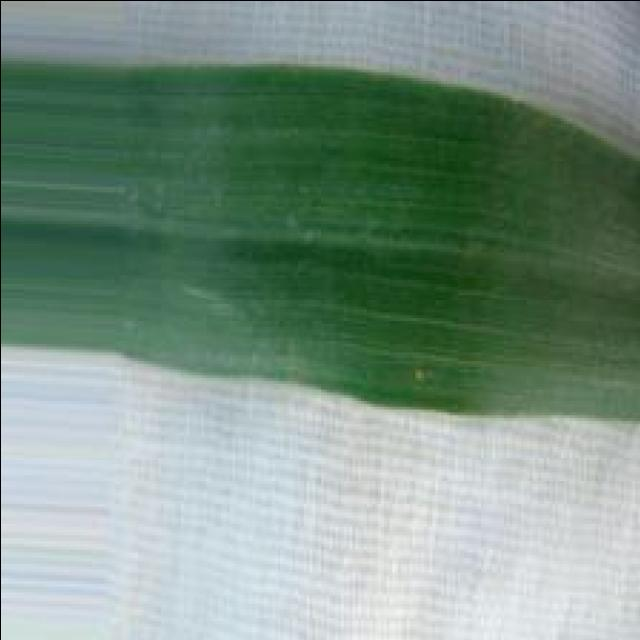Healthy: (0, 63, 640, 420)
